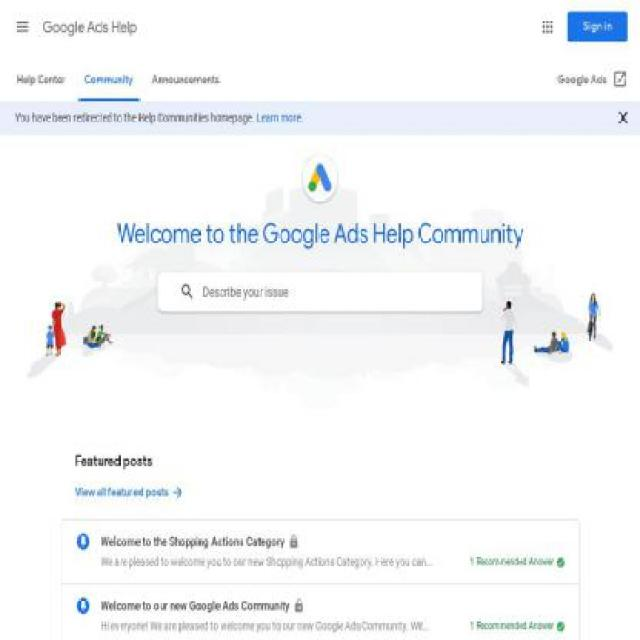button: (61, 520, 579, 585), (60, 584, 580, 639), (74, 472, 184, 512), (145, 60, 226, 100), (78, 60, 139, 102), (10, 60, 73, 100), (568, 12, 628, 42), (7, 7, 38, 47), (172, 272, 203, 312), (535, 10, 560, 44)
field: (158, 272, 482, 312)
